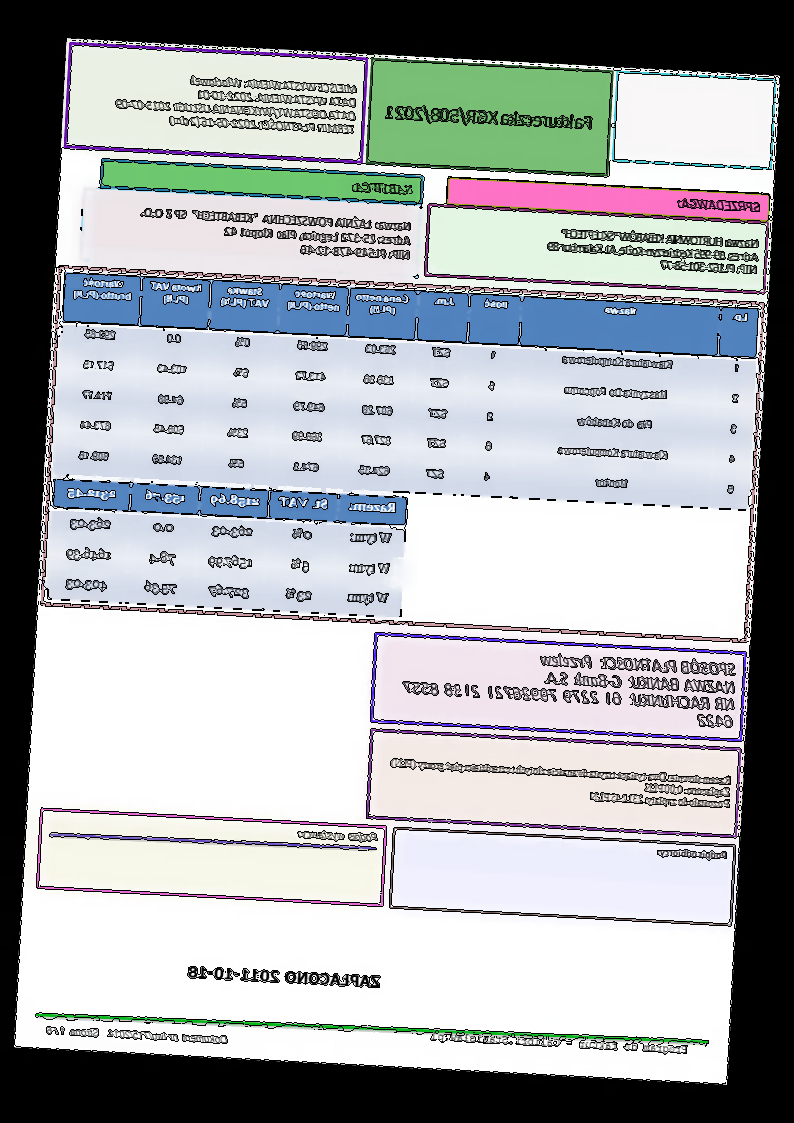Table: (55, 270, 762, 511), (49, 476, 410, 620)
TextBox: (396, 641, 740, 736), (384, 754, 737, 816), (112, 68, 363, 141), (134, 201, 415, 266), (541, 224, 765, 279), (428, 1027, 692, 1059), (384, 99, 599, 136), (183, 958, 388, 994), (42, 1019, 233, 1049), (296, 823, 382, 850), (676, 194, 767, 217), (654, 843, 734, 866), (351, 177, 419, 198)
